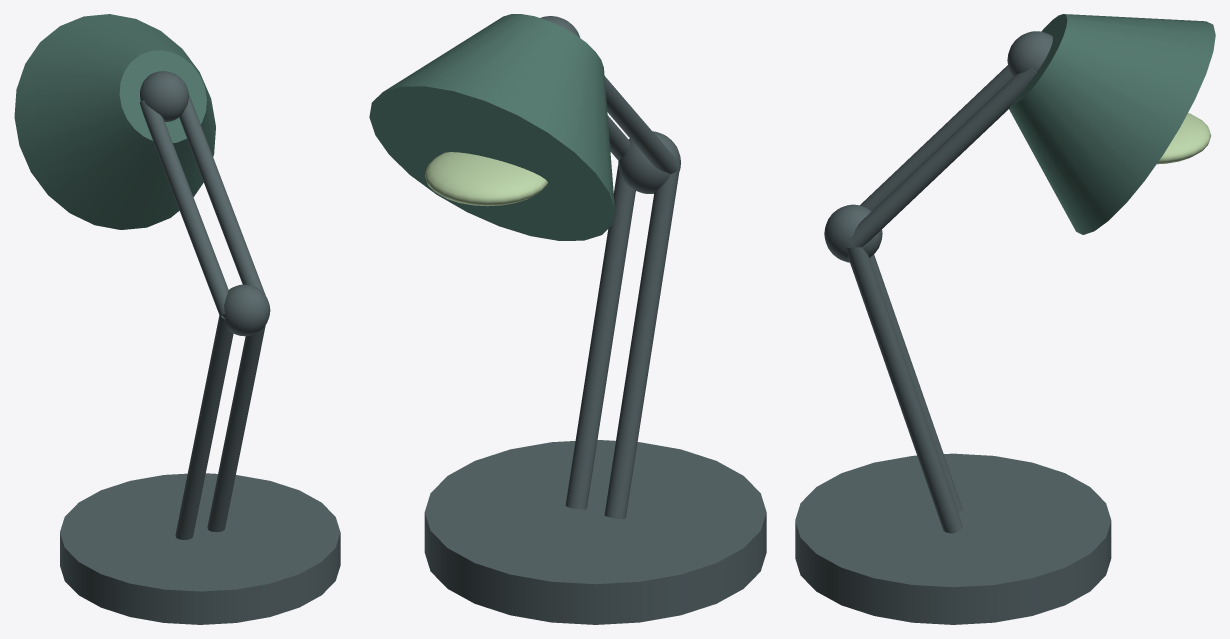
File: DeskLamp.obj
3 renders of one model, left to right at view 1: azimuth 30°, elevation 25°; view 2: azimuth 150°, elevation 25°; view 3: azimuth 270°, elevation 25°, orthographic. The views are drawn at different scales.
Parts seen in each view (by area): view 1: DeskLamp; view 2: DeskLamp; view 3: DeskLamp.
Boxes of the visible parts, <box> form: DeskLamp: <box>14,14,340,624</box>; DeskLamp: <box>369,14,766,624</box>; DeskLamp: <box>795,14,1215,624</box>.
Bounding box in the file's own units: 0.38 × 0.7134 × 0.5054.
